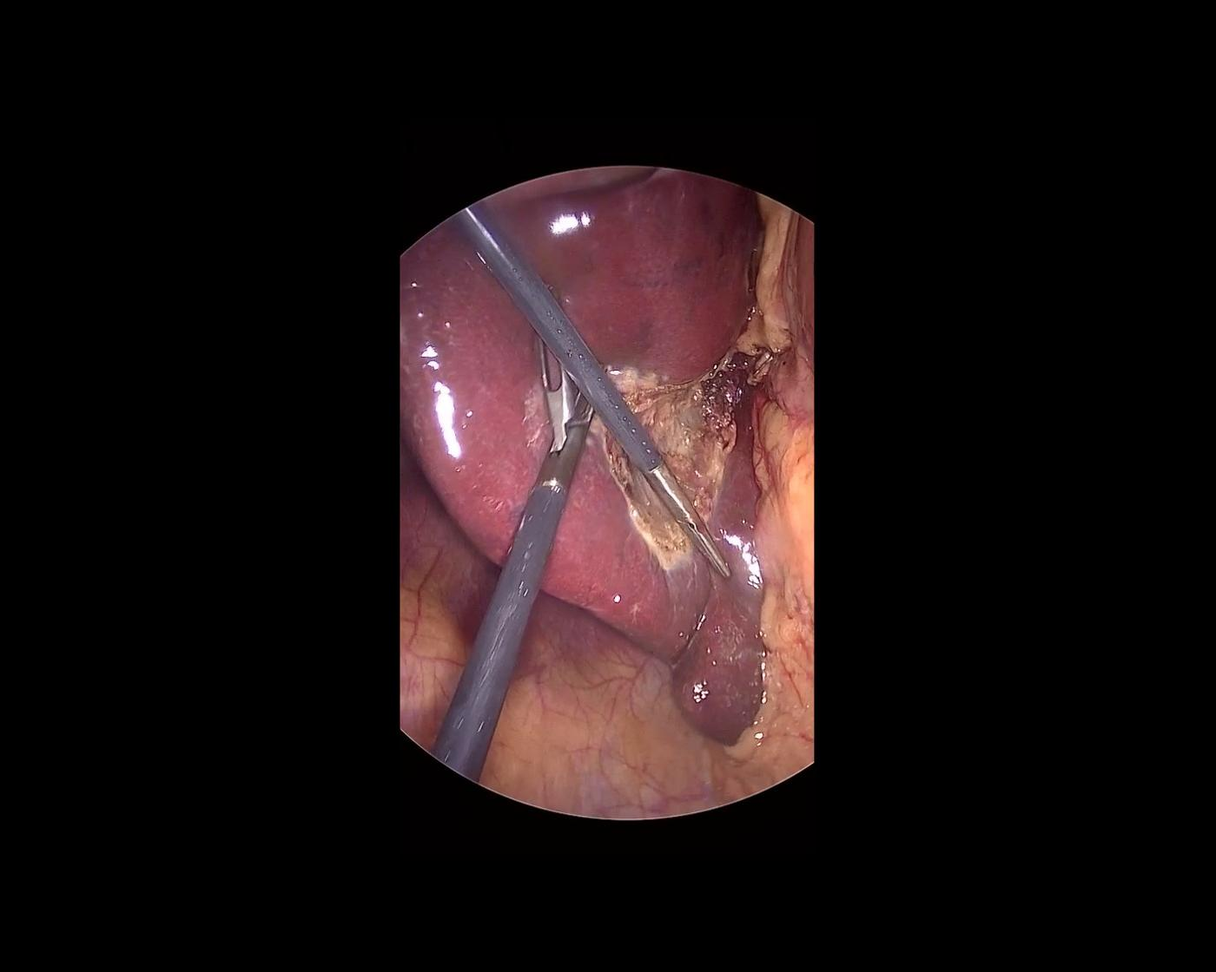Forceps: (454, 199, 734, 591), (406, 334, 612, 784)
Liver: (396, 165, 763, 750)
